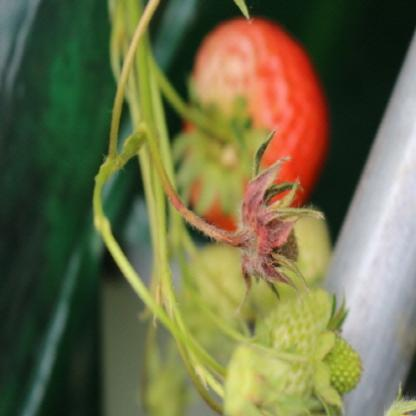Strawberry_Gray_Mold: (192, 130, 327, 310)
